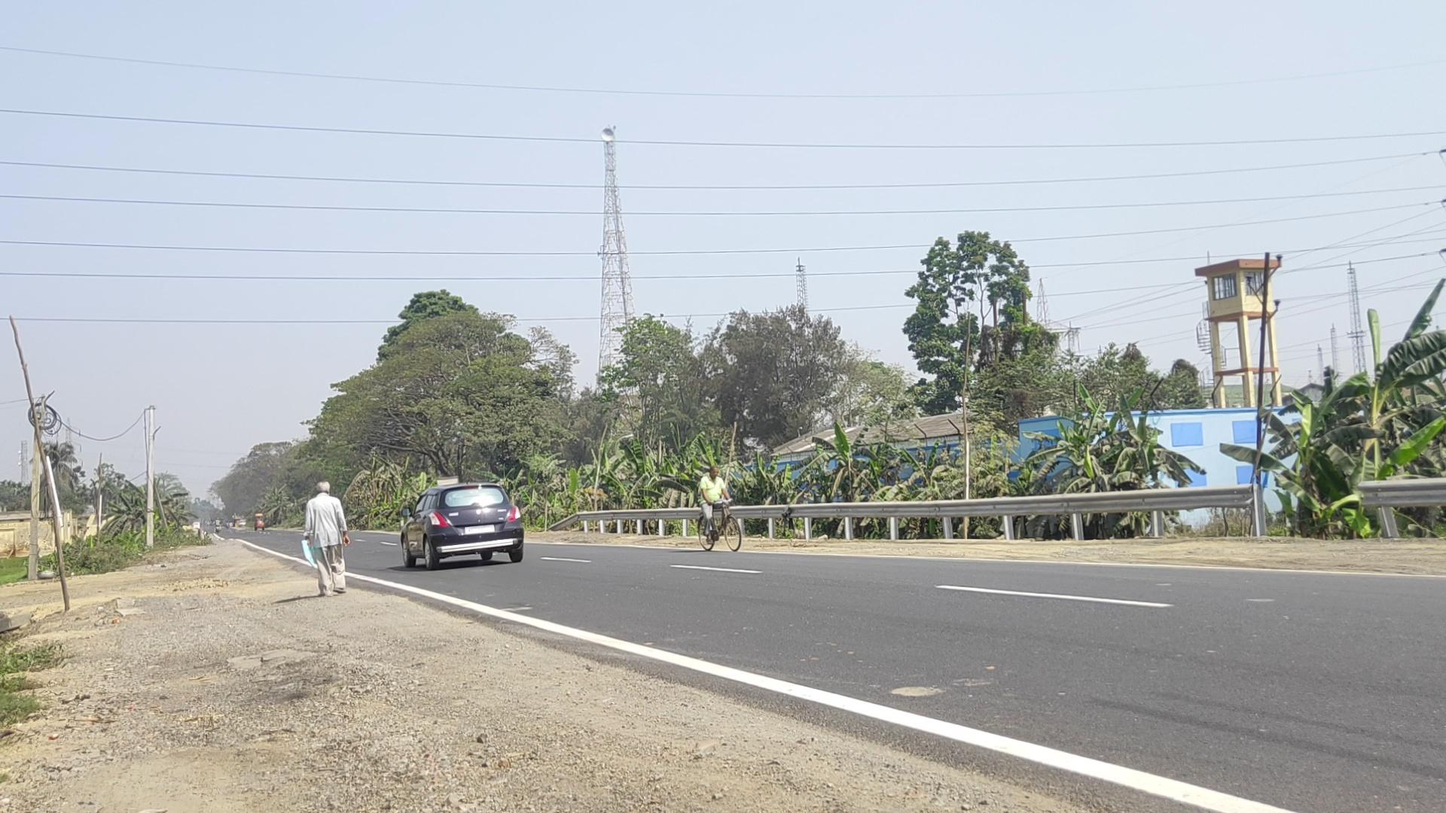bike: (697, 465, 742, 552)
car: (401, 481, 525, 571)
